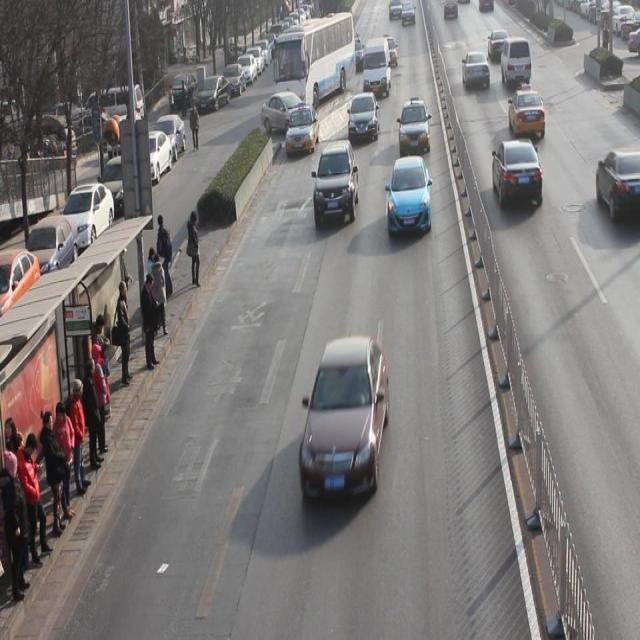car: (300, 332, 388, 500), (314, 137, 358, 230), (492, 138, 544, 208), (388, 157, 431, 236), (597, 148, 640, 225), (261, 91, 312, 138), (508, 88, 546, 140), (399, 98, 432, 156), (285, 106, 320, 157), (348, 92, 381, 146), (462, 49, 491, 91), (488, 28, 512, 66)
truck: (362, 36, 392, 97), (500, 37, 532, 90)
van: (274, 13, 357, 116)
